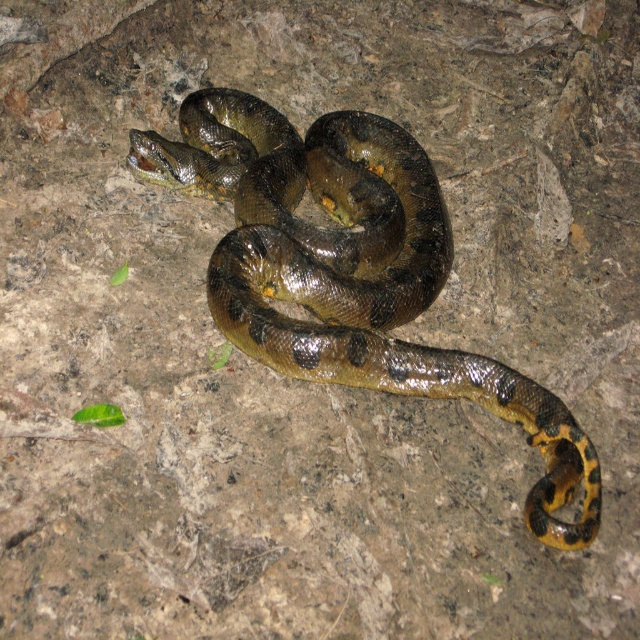Snake: (125, 87, 602, 550)
